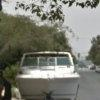Boat: (11, 39, 83, 100)
